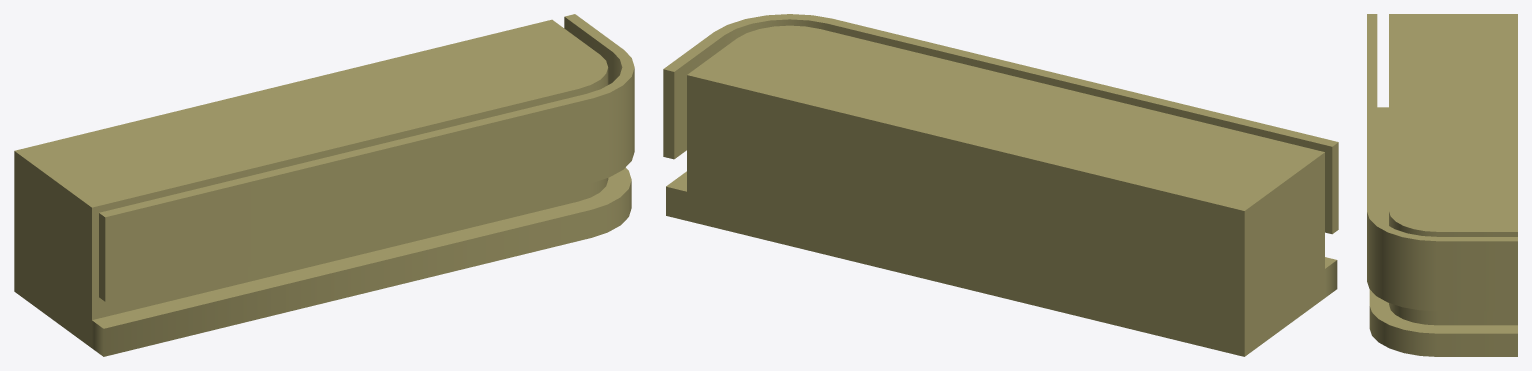
Rendered from Apartments01_trim2.fbx.
3 views of the same model, side by side, from view 1: azimuth 30°, elevation 25°; view 2: azimuth 150°, elevation 25°; view 3: azimuth 270°, elevation 25° (orthographic). The views are drawn at different scales.
Visible parts, largest first — view 1: Apartments01_trim2; view 2: Apartments01_trim2; view 3: Apartments01_trim2.
Part boxes in pixels (x1,y1,x2,y2): Apartments01_trim2: (14, 14, 634, 356); Apartments01_trim2: (663, 14, 1338, 356); Apartments01_trim2: (1367, 14, 1517, 356).
Bounding box in the file's own units: 417 × 100 × 117.
